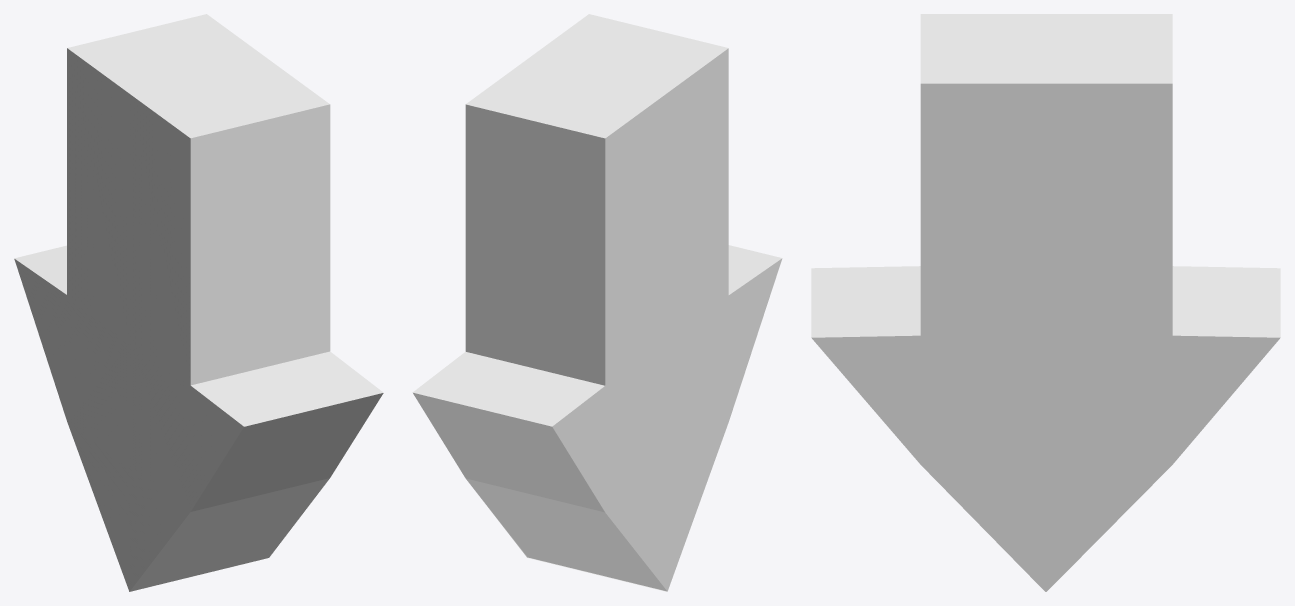
File: SelectArrow.obj
3 renders of one model, left to right at view 1: azimuth 30°, elevation 25°; view 2: azimuth 150°, elevation 25°; view 3: azimuth 270°, elevation 25°, orthographic. The views are drawn at different scales.
Visible parts, largest first — view 1: Cube; view 2: Cube; view 3: Cube.
Boxes of the visible parts, x1,y1,x2,y2 form: Cube: [14, 14, 383, 591]; Cube: [412, 14, 782, 591]; Cube: [811, 14, 1280, 591].
Bounding box in the file's own units: 0.5865 × 2 × 1.67.
Materials: 1 (1 with a texture image).
